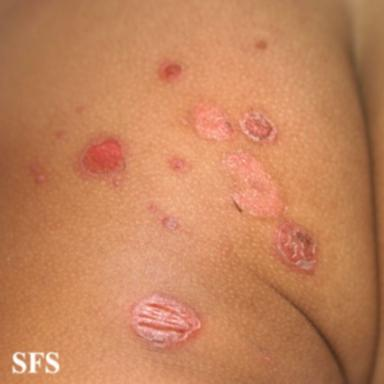Impetigo: (221, 150, 317, 272), (131, 294, 201, 349), (79, 136, 126, 180), (189, 103, 234, 140), (239, 110, 277, 142), (148, 203, 181, 232), (160, 60, 184, 82), (167, 156, 190, 174)
